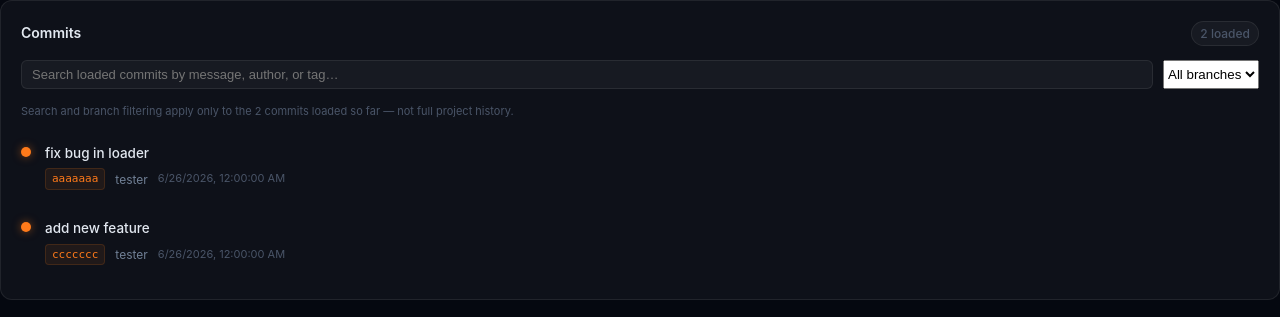
Test case: CommitsPanel › filters the loaded commits by the search box
Check: the text "fix bug in loader" is shown, box [45,145,149,161]
Type "feature" into the field with placeholder "Search loaded commits by message, author, or tag…" at (587, 75), box [21,60,1153,89]
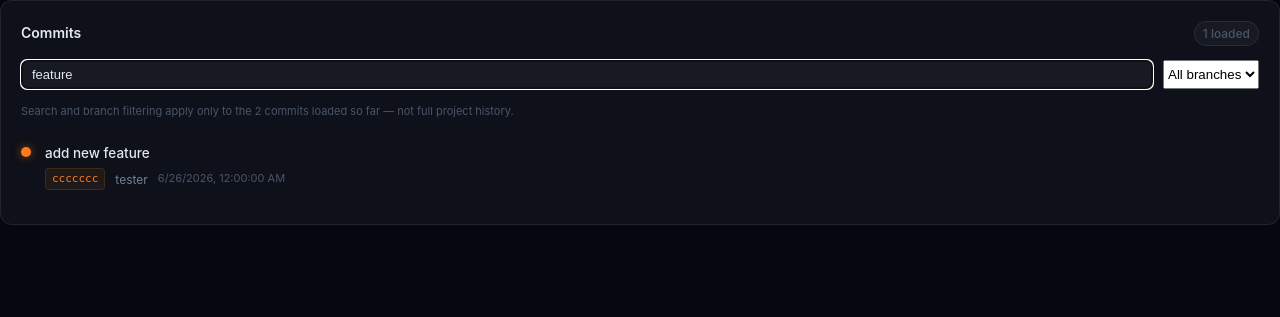
Check: the text "add new feature" is shown, box [45,145,150,161]
Check: the text "fix bug in loader" is gone
